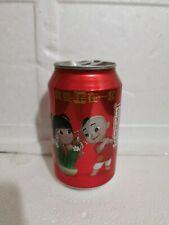metal: (49, 62, 122, 188)
